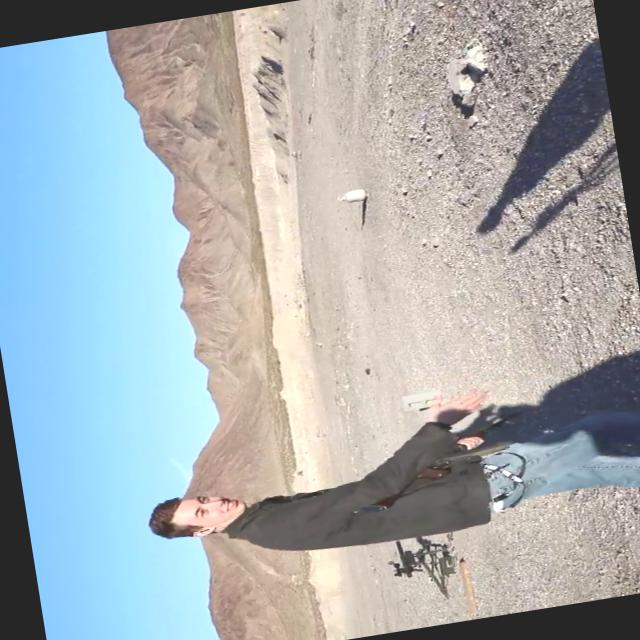long weapon: (344, 394, 530, 520), (376, 530, 453, 587)
